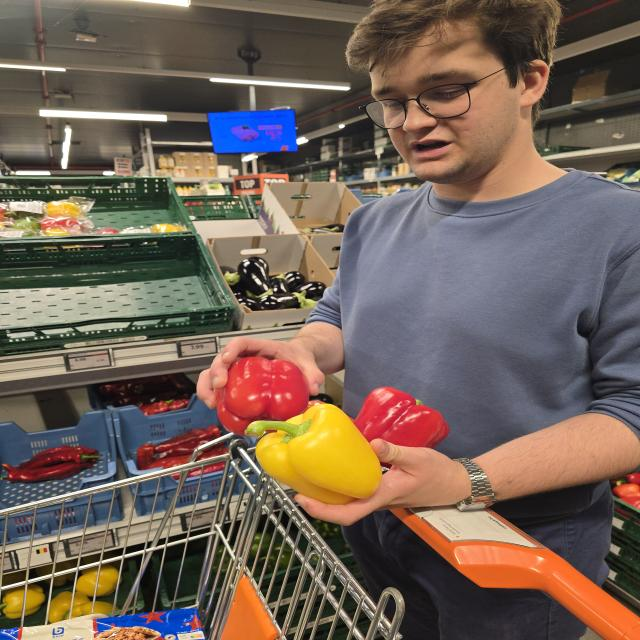Bell Pepper: (246, 404, 382, 505), (215, 357, 309, 435), (353, 387, 449, 448)
Eggplant: (238, 256, 271, 297), (257, 290, 306, 311)
